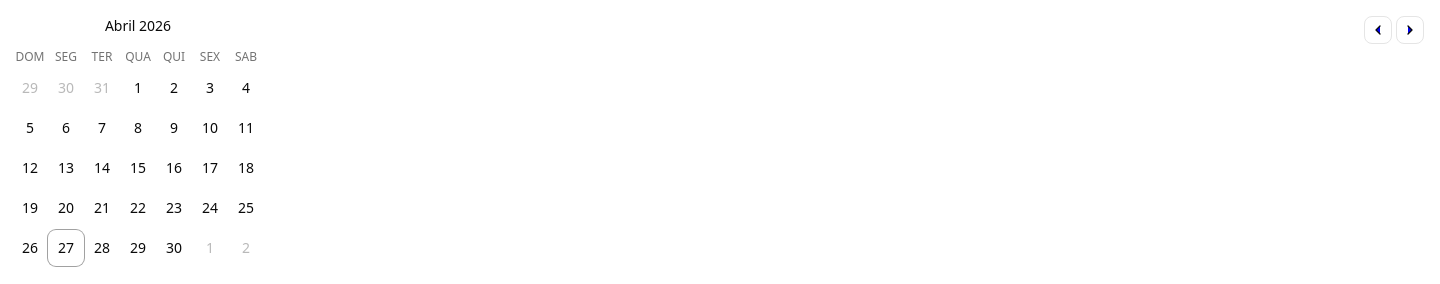
Test case: Calendar (SI-1 nav click regression) › advances the displayed month when the ◀ previous button is clicked
Expected: the text "abril 2026" is shown, [105,16,171,36]
Expected: the navigation bar is shown, [1364,16,1424,44]
What coordinates should you click on to do the following:
click the button named "Go to the Previous Month"
I would click on:
 (1378, 30)
Its box is [1364,16,1392,44].
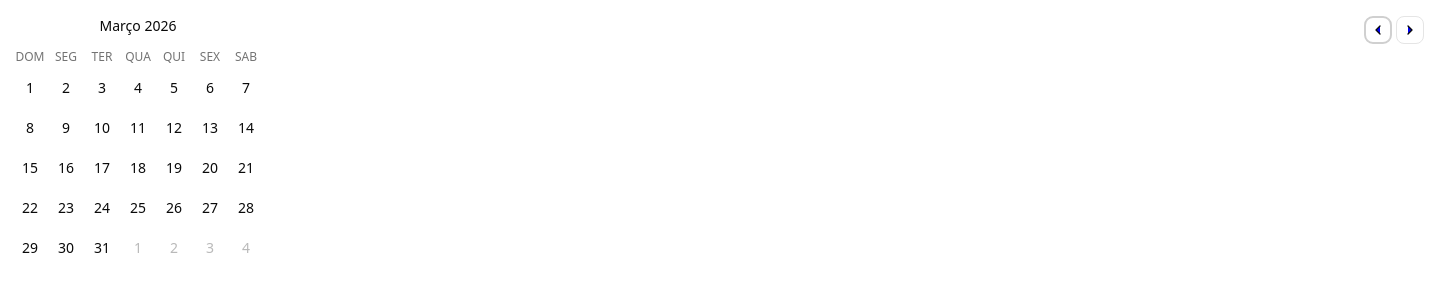
Now the text "março 2026" is shown, box [100,16,176,36]
Now the text "abril 2026" is gone
